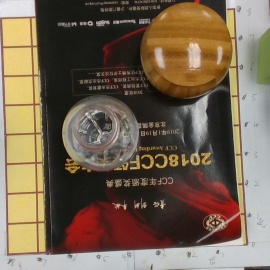bottle: (60, 94, 141, 172)
chess: (140, 4, 232, 101)
